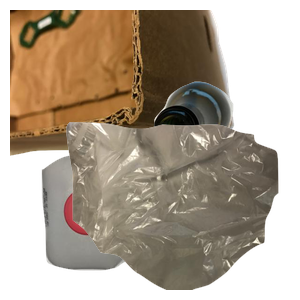cardboard: (10, 10, 237, 158)
glass: (151, 79, 300, 221)
plastic: (39, 149, 203, 300)
trash: (64, 120, 300, 300)
